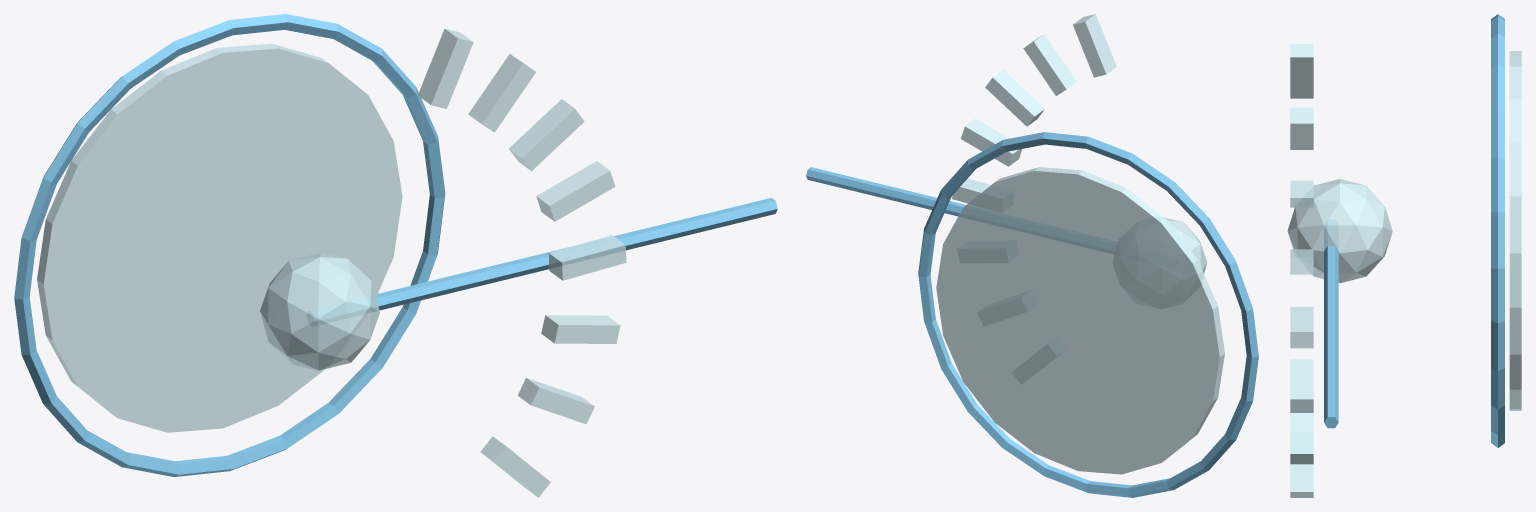
The model's file is 01_class_special_attack_vfx.glb.
3 views of the same model, side by side, from view 1: azimuth 30°, elevation 25°; view 2: azimuth 150°, elevation 25°; view 3: azimuth 270°, elevation 25° (orthographic). The views are drawn at different scales.
Parts seen in each view (by area): view 1: ability_cast_disc, ability_outer_ring, class_energy_core, tether_line, attack_flow_arc_seg_7, attack_flow_arc_seg_5, attack_flow_arc_seg_6, attack_flow_arc_seg_4, attack_flow_arc_seg_3, attack_flow_arc_seg_2, attack_flow_arc_seg_1, attack_flow_arc_seg_0; view 2: ability_cast_disc, ability_outer_ring, tether_line, attack_flow_arc_seg_7, attack_flow_arc_seg_5, attack_flow_arc_seg_6, attack_flow_arc_seg_4, class_energy_core, attack_flow_arc_seg_3; view 3: class_energy_core, ability_outer_ring, ability_cast_disc, tether_line, attack_flow_arc_seg_7, attack_flow_arc_seg_2, attack_flow_arc_seg_1, attack_flow_arc_seg_6, attack_flow_arc_seg_3, attack_flow_arc_seg_0, attack_flow_arc_seg_5, attack_flow_arc_seg_4.
Boxes of the visible parts, x1,y1,x2,y2 form: ability_cast_disc: [37, 43, 402, 432]; ability_outer_ring: [14, 14, 445, 476]; class_energy_core: [260, 252, 379, 370]; tether_line: [307, 198, 777, 325]; attack_flow_arc_seg_7: [418, 28, 473, 108]; attack_flow_arc_seg_5: [509, 99, 584, 171]; attack_flow_arc_seg_6: [468, 54, 535, 132]; attack_flow_arc_seg_4: [536, 161, 615, 221]; attack_flow_arc_seg_3: [548, 235, 626, 280]; attack_flow_arc_seg_2: [541, 315, 620, 343]; attack_flow_arc_seg_1: [518, 378, 594, 424]; attack_flow_arc_seg_0: [480, 436, 550, 497]; ability_cast_disc: [936, 167, 1224, 474]; ability_outer_ring: [918, 132, 1258, 497]; tether_line: [806, 167, 1117, 253]; attack_flow_arc_seg_7: [1073, 14, 1116, 77]; attack_flow_arc_seg_5: [985, 70, 1044, 126]; attack_flow_arc_seg_6: [1023, 34, 1076, 95]; attack_flow_arc_seg_4: [961, 118, 1022, 166]; class_energy_core: [1164, 217, 1207, 273]; attack_flow_arc_seg_3: [952, 178, 991, 203]; class_energy_core: [1287, 179, 1392, 283]; ability_outer_ring: [1491, 14, 1504, 447]; ability_cast_disc: [1509, 51, 1521, 410]; tether_line: [1324, 220, 1338, 428]; attack_flow_arc_seg_7: [1290, 44, 1313, 98]; attack_flow_arc_seg_2: [1290, 359, 1313, 412]; attack_flow_arc_seg_1: [1290, 413, 1313, 464]; attack_flow_arc_seg_6: [1290, 107, 1313, 149]; attack_flow_arc_seg_3: [1290, 307, 1313, 348]; attack_flow_arc_seg_0: [1290, 464, 1313, 497]; attack_flow_arc_seg_5: [1290, 180, 1313, 207]; attack_flow_arc_seg_4: [1290, 249, 1313, 274].
Size of the model in its own units: 2.29 by 1.63 by 0.8.
